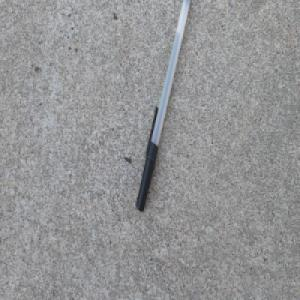Pen: (134, 0, 190, 213)
